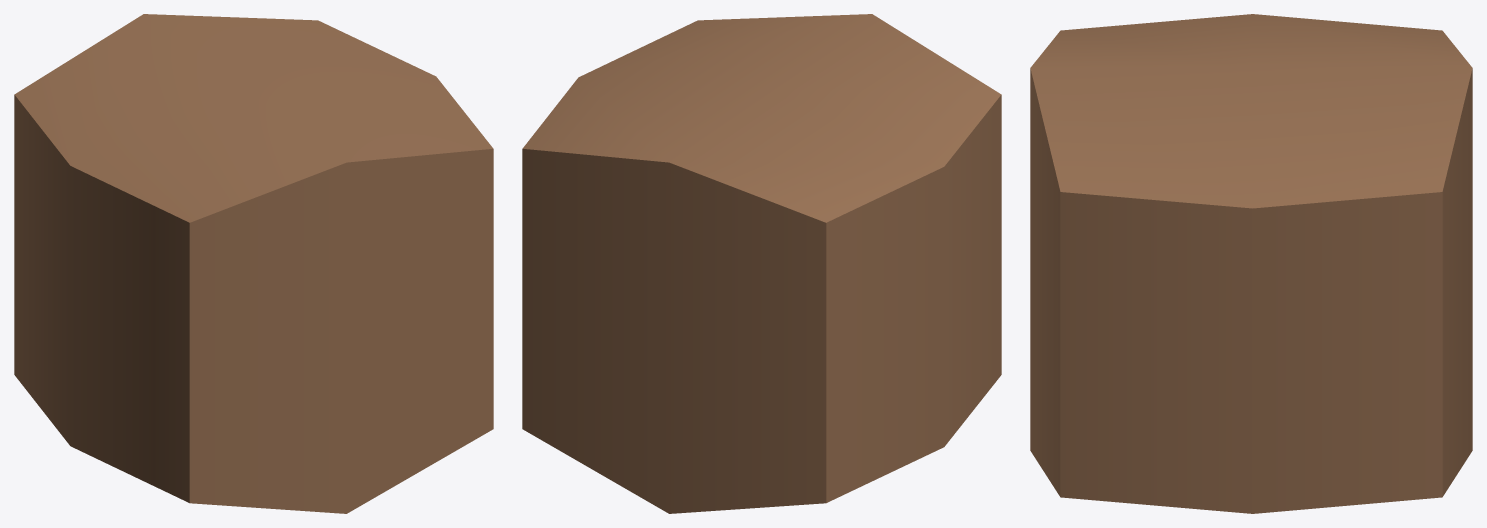
The model's file is Rope_Knot.fbx.
The picture shows the model from 3 angles, left to right: view 1: azimuth 30°, elevation 25°; view 2: azimuth 150°, elevation 25°; view 3: azimuth 270°, elevation 25°; orthographic projection. The views are drawn at different scales.
Parts seen in each view (by area): view 1: Rope_Knot; view 2: Rope_Knot; view 3: Rope_Knot.
Boxes of the visible parts, left/top/right/bottom form: Rope_Knot: left=14, top=14, right=493, bottom=513; Rope_Knot: left=522, top=14, right=1001, bottom=513; Rope_Knot: left=1030, top=14, right=1472, bottom=513.
Bounding box in the file's own units: 4.44 × 4.07 × 4.27.
